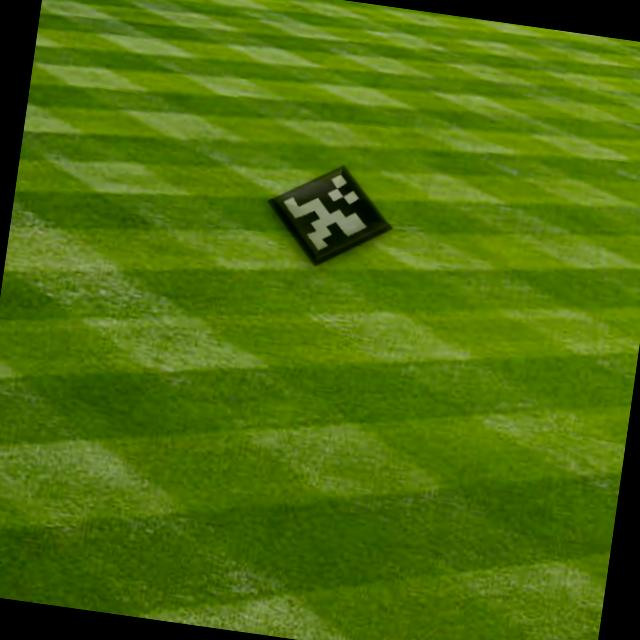marker: (256, 144, 408, 285)
